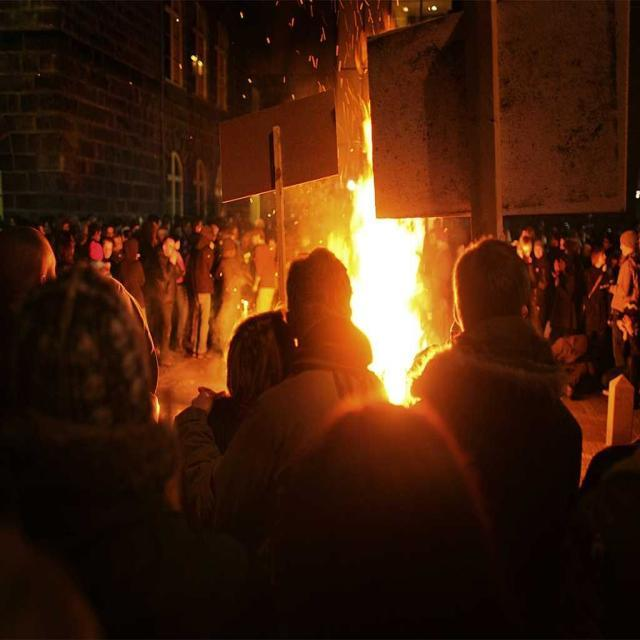Fire: (361, 224, 424, 352)
